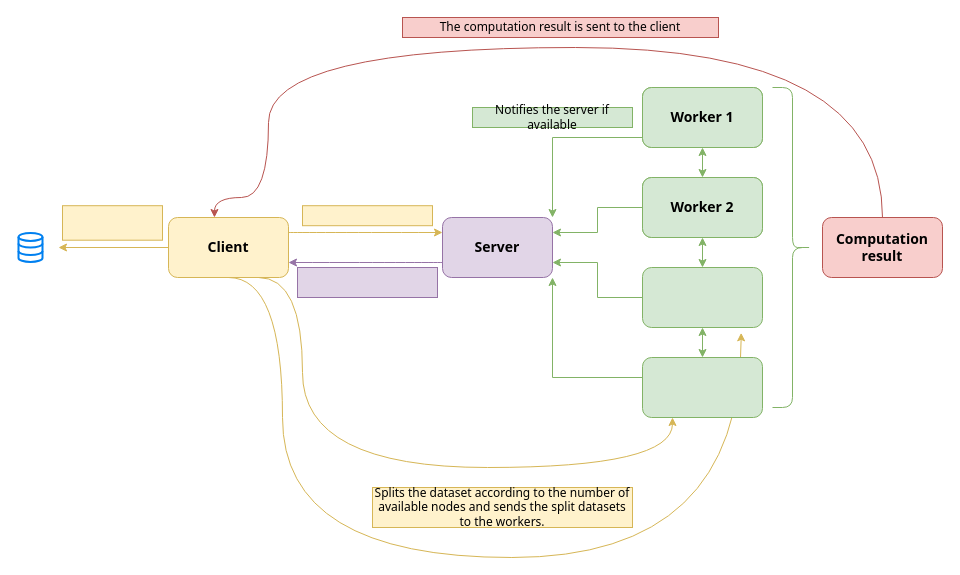
The diagram is 960 pixels wide and 575 high, and some of its shapes have lost their labels. The centre of each missing label's shape, as x and y in pixels:
Access to a dataset: point 112,222
Asks for worker nodes: point 367,215
Returns IP adresses of available workers: point 367,282
Worker 3: point 702,297
Worker 4: point 702,387
